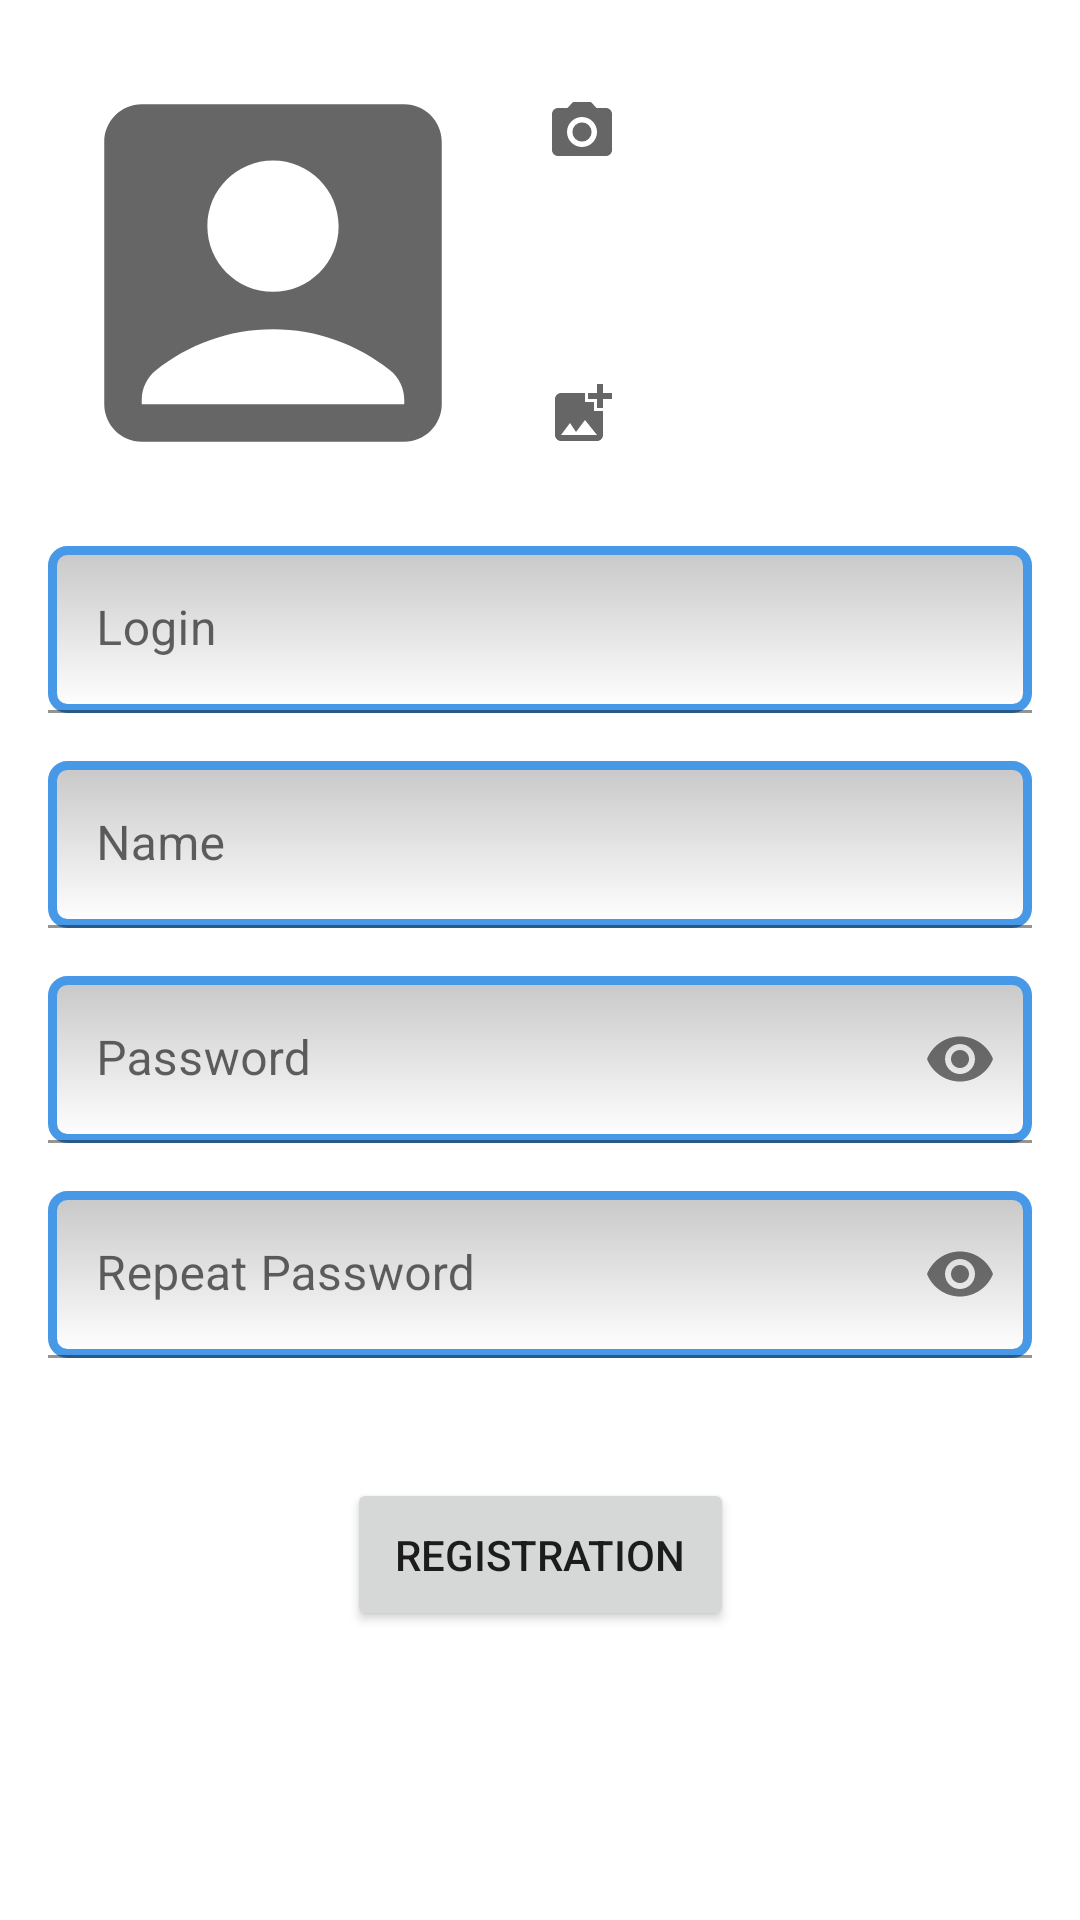

Named icons in this screenshot (1080x1920) and their bounding boxes, (x1, y1, x2, y2):
account box: (104, 104, 442, 442)
add photo alternate: (555, 384, 612, 441)
camera: (552, 102, 612, 156)
